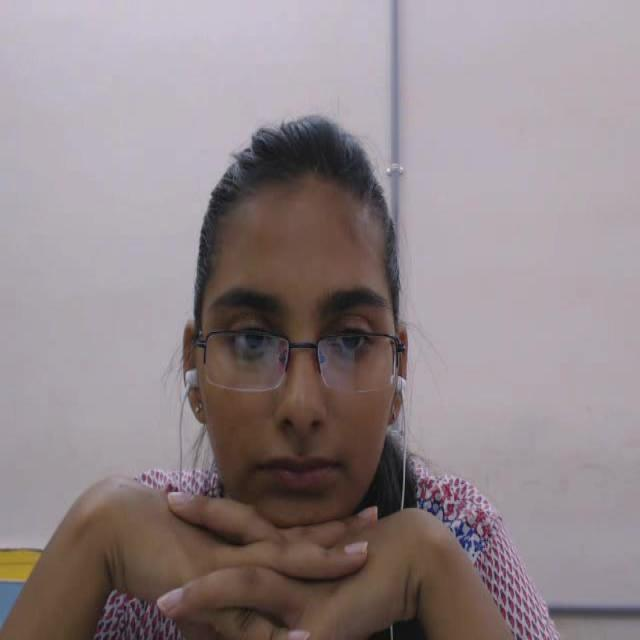Bored: (174, 125, 434, 547)
